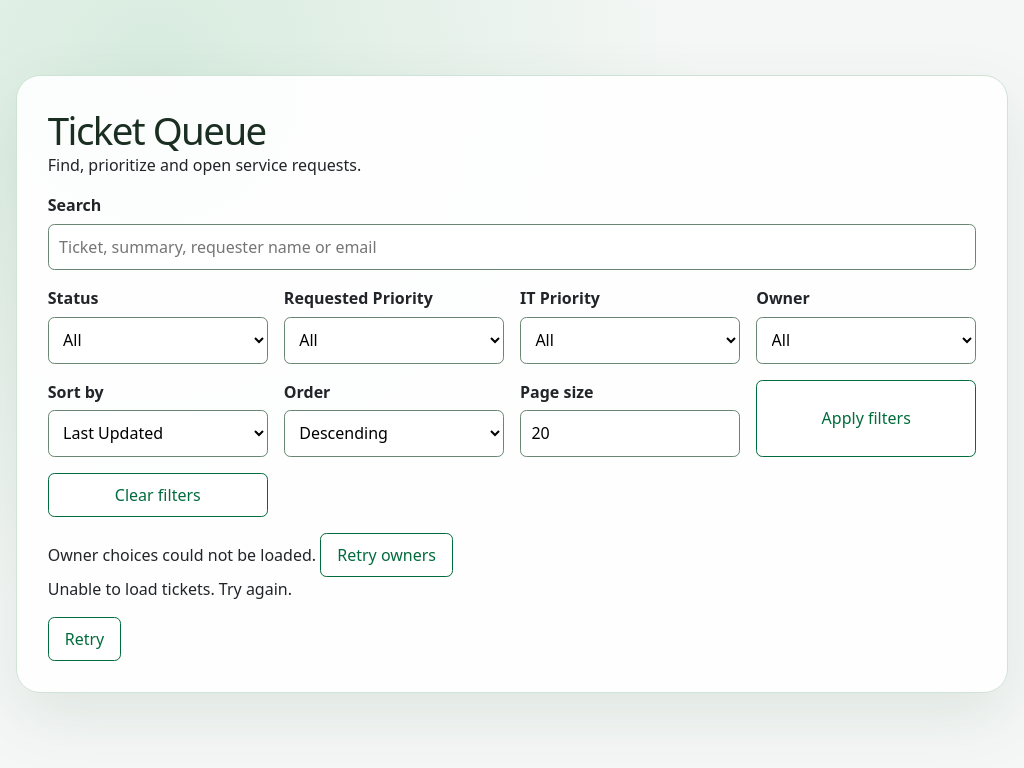
Staff Ticket Queue › retries failures safely and reports owner metadata failures separately
This screenshot has width=1024, height=768.
expect the text "Unable to load tickets. Try again." is shown: met, box top-left (48, 578), bottom-right (292, 600)
expect the button "Retry owners" is shown: met, box top-left (320, 533), bottom-right (453, 577)
Click the button "Retry" at (84, 639), box top-left (48, 617), bottom-right (121, 661)
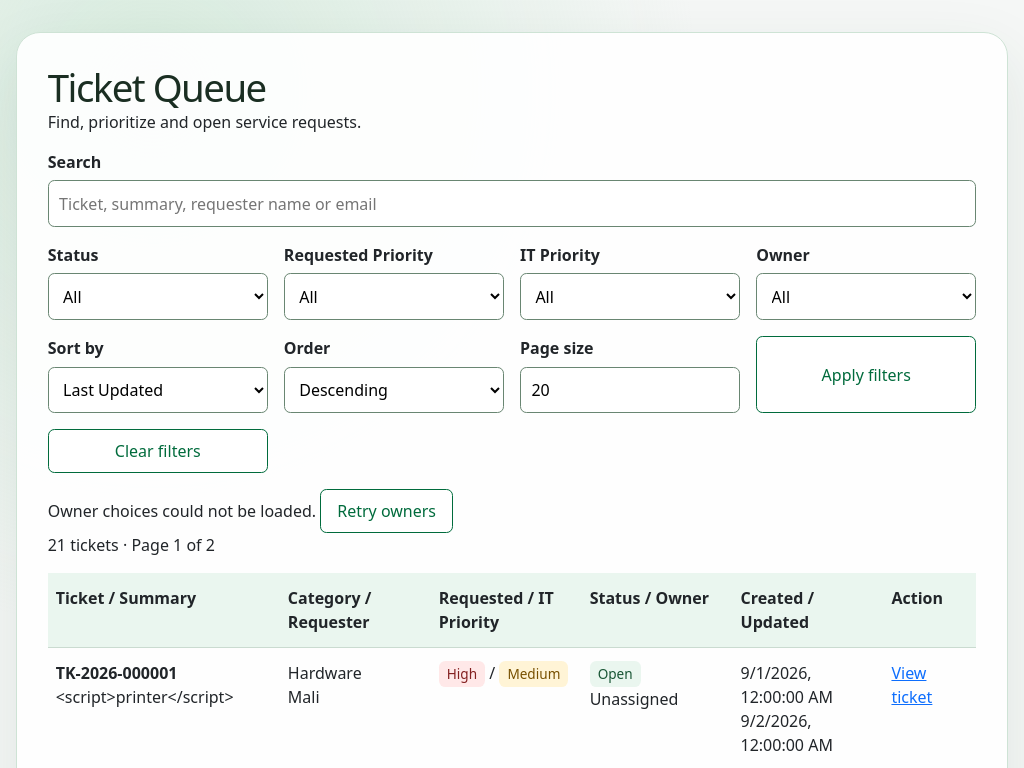
expect the text "21 tickets · Page 1 of 2" is shown: met, box top-left (48, 534), bottom-right (215, 556)
